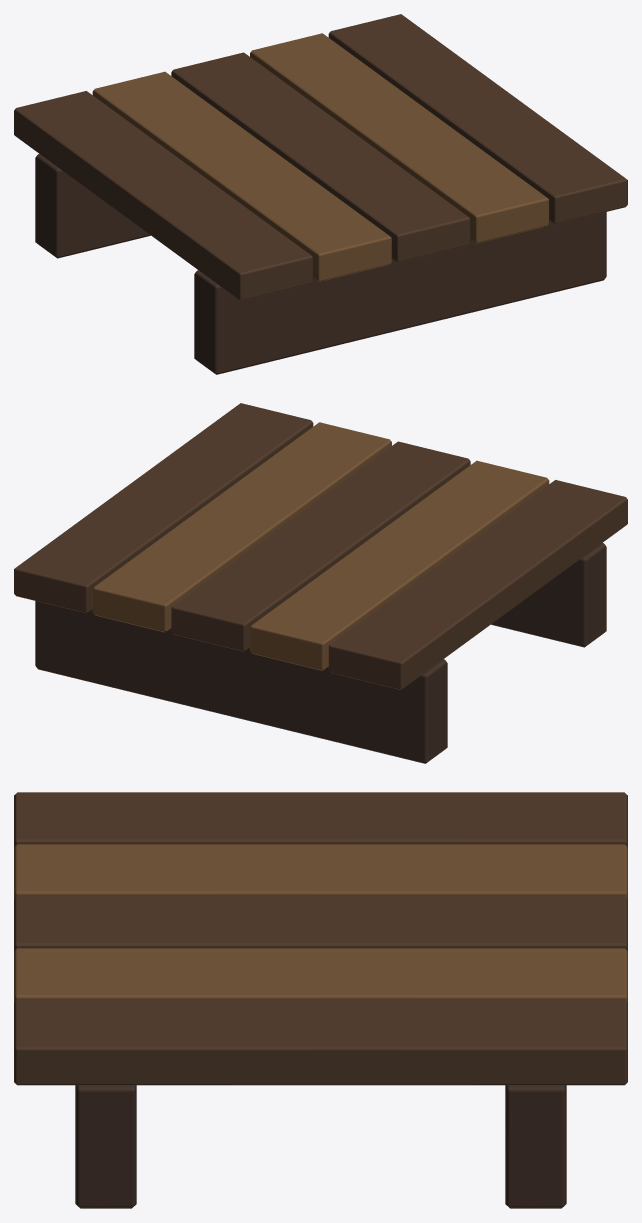
The model's file is village-bridge-deck.94b6d366.glb.
3 views of the same model, one above another, from view 1: azimuth 30°, elevation 25°; view 2: azimuth 150°, elevation 25°; view 3: azimuth 270°, elevation 25° (orthographic). The views are drawn at different scales.
Visible parts, largest first — view 1: body; view 2: body; view 3: body.
Boxes of the visible parts, left/top/right/bottom form: body: left=14, top=14, right=627, bottom=374; body: left=14, top=403, right=627, bottom=763; body: left=14, top=792, right=627, bottom=1208.
Bounding box in the file's own units: 1 × 0.29 × 1.
